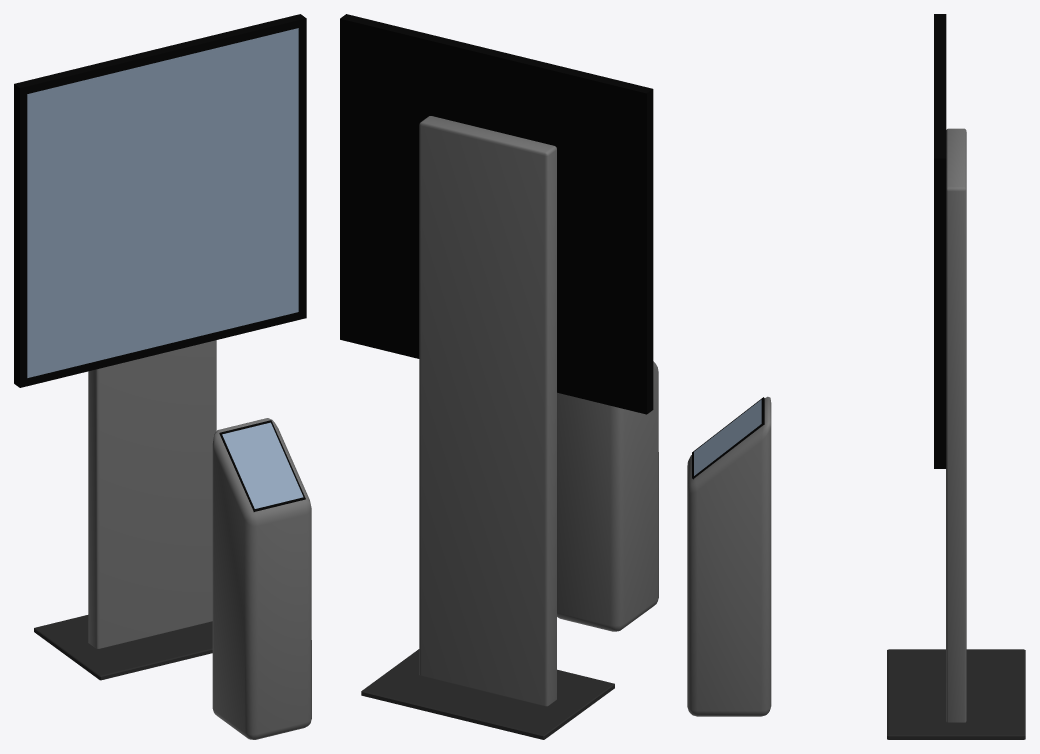
The model's file is display.glb.
3 views of the same model, side by side, from view 1: azimuth 30°, elevation 25°; view 2: azimuth 150°, elevation 25°; view 3: azimuth 270°, elevation 25° (orthographic). The views are drawn at different scales.
Parts seen in each view (by area): view 1: Screen, Pillar-col, Info-col, Display-col, Cube, InfoScreenUpper, InfoScreenLower, InfoDisplay; view 2: Pillar-col, Display-col, Info-col, Cube; view 3: Info-col, Pillar-col, Cube, Display-col, InfoScreenUpper, InfoScreenLower.
Part boxes in pixels (x1=…): Screen: x1=27, y1=28, x2=298, y2=377; Pillar-col: x1=88, y1=340, x2=216, y2=648; Info-col: x1=212, y1=418, x2=311, y2=739; Display-col: x1=14, y1=14, x2=306, y2=387; Cube: x1=34, y1=615, x2=212, y2=680; InfoScreenUpper: x1=222, y1=422, x2=291, y2=483; InfoScreenLower: x1=243, y1=471, x2=303, y2=508; InfoDisplay: x1=219, y1=420, x2=305, y2=511; Pillar-col: x1=419, y1=116, x2=556, y2=706; Display-col: x1=340, y1=14, x2=653, y2=414; Info-col: x1=557, y1=361, x2=658, y2=631; Cube: x1=361, y1=649, x2=614, y2=739; Info-col: x1=687, y1=396, x2=771, y2=716; Pillar-col: x1=946, y1=128, x2=966, y2=722; Cube: x1=887, y1=649, x2=1025, y2=739; Display-col: x1=934, y1=14, x2=946, y2=468; InfoScreenUpper: x1=717, y1=399, x2=761, y2=457; InfoScreenLower: x1=694, y1=433, x2=717, y2=475.
Size of the model in its own units: 1.02 by 2.02 by 1.01.
